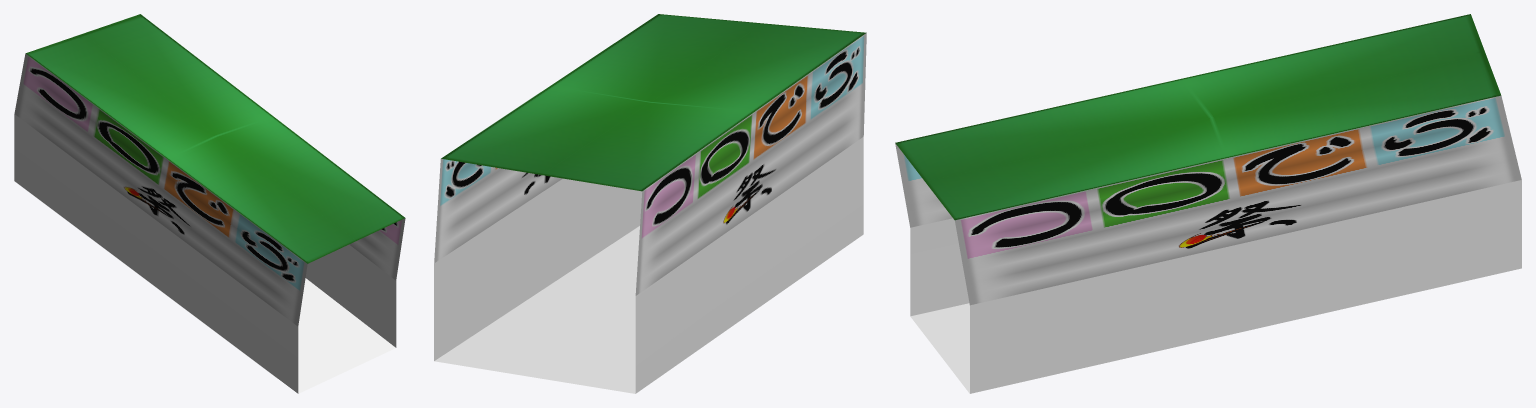
The model's file is CourseWinter_Wall_R_11_1.fbx.
The picture shows the model from 3 angles, left to right: view 1: azimuth 30°, elevation 25°; view 2: azimuth 150°, elevation 25°; view 3: azimuth 270°, elevation 25°; orthographic projection. The views are drawn at different scales.
Parts seen in each view (by area): view 1: polySurface529; view 2: polySurface529; view 3: polySurface529.
Boxes of the visible parts, x1=… form: polySurface529: x1=14, y1=14, x2=405, y2=393; polySurface529: x1=434, y1=14, x2=866, y2=393; polySurface529: x1=895, y1=14, x2=1521, y2=393.
Size of the model in its own units: 2.93 by 2.98 by 6.41.
Materials: 1 (1 with a texture image).
